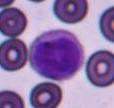M: (28, 27, 84, 80)
